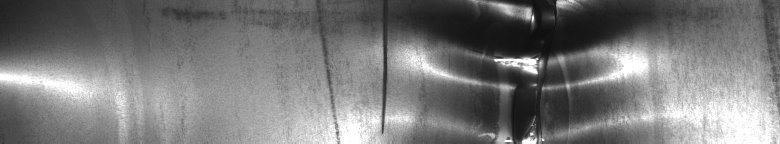ke: (326, 4, 620, 136)
